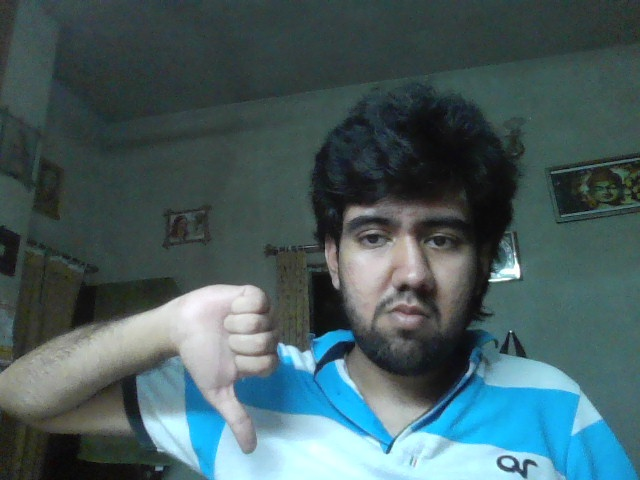NotOk: (179, 284, 279, 454)
